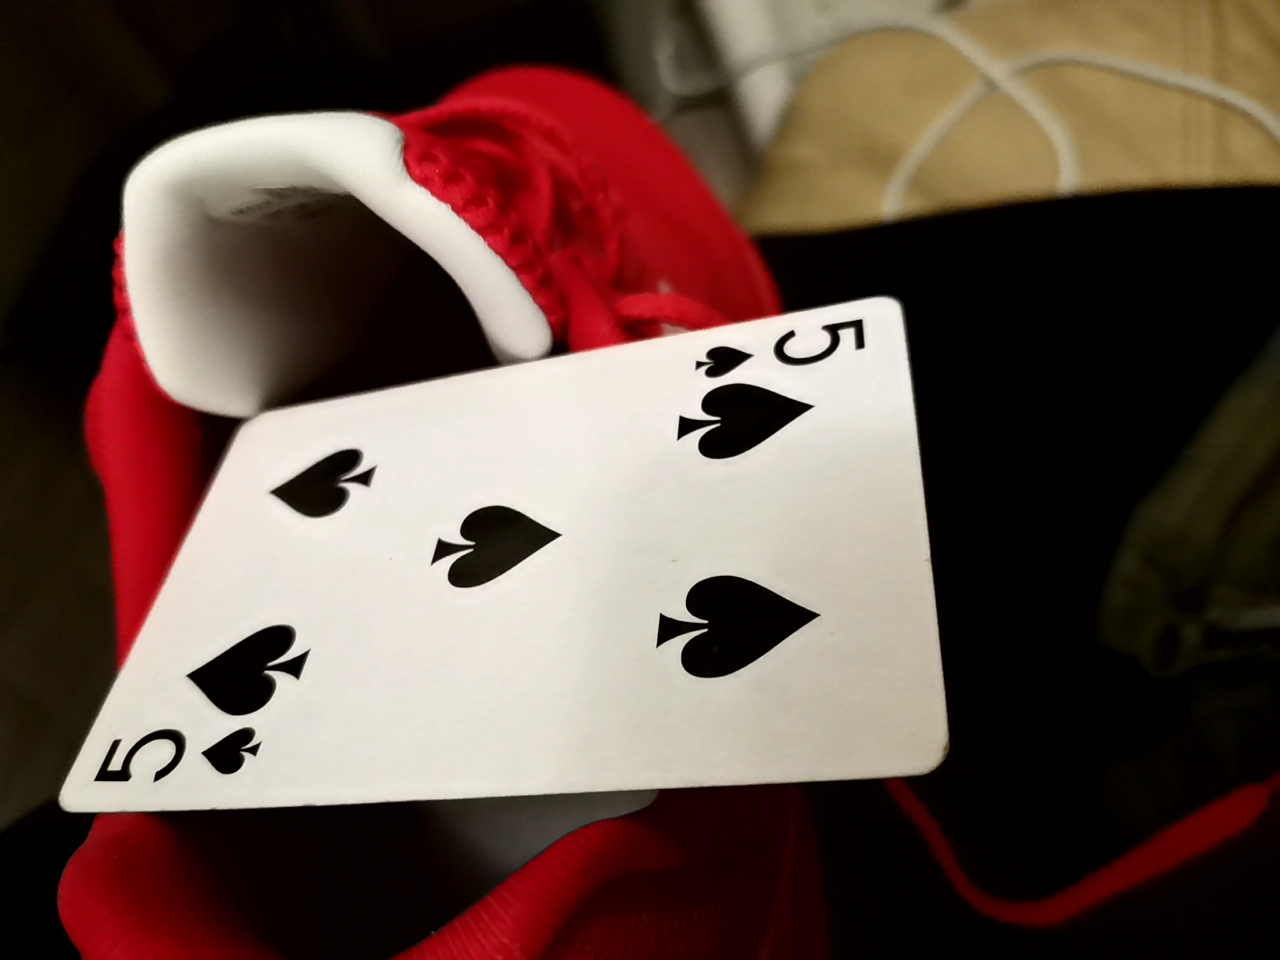ht 5: (53, 303, 936, 821)
